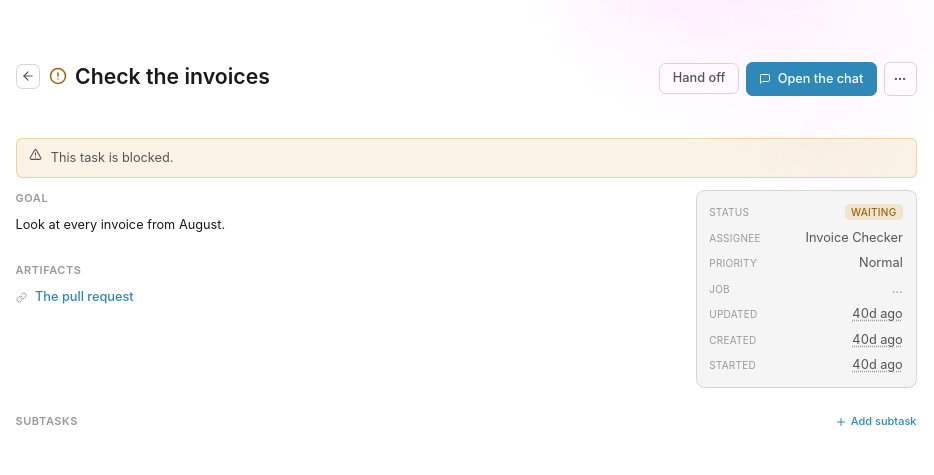
Test: the other states › says why a link was refused, in words rather than in the wire's code
Expected: the heading "Check the invoices" is shown, [75, 62, 270, 91]
What coordinates should you click on to do the following:
click the button "The pull request"
I would click on:
 (84, 297)
Its box is [35, 289, 134, 306].
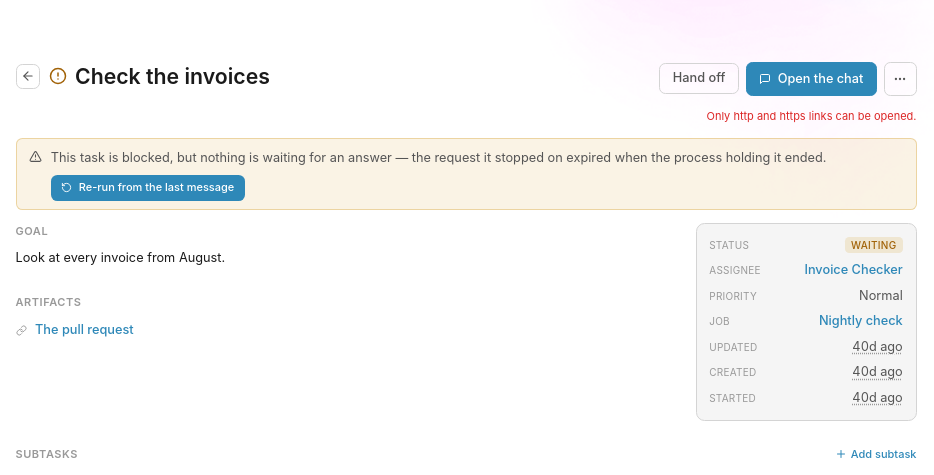
Expected: the text "Only http and https links can be opened." is shown, [706, 109, 916, 123]
